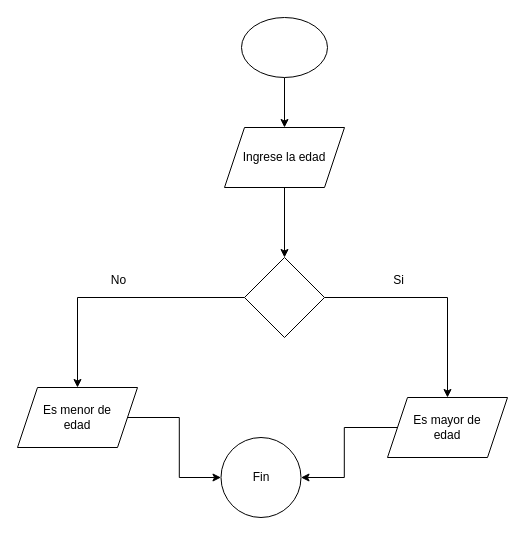
Image size: 525x535. Some labels were removed from this diagram. Here are the shapes that lost their labels. From the top down, the centre of each, then its label:
At point 284,47: "Inicio".
At point 284,297: "Edad >= 18".
